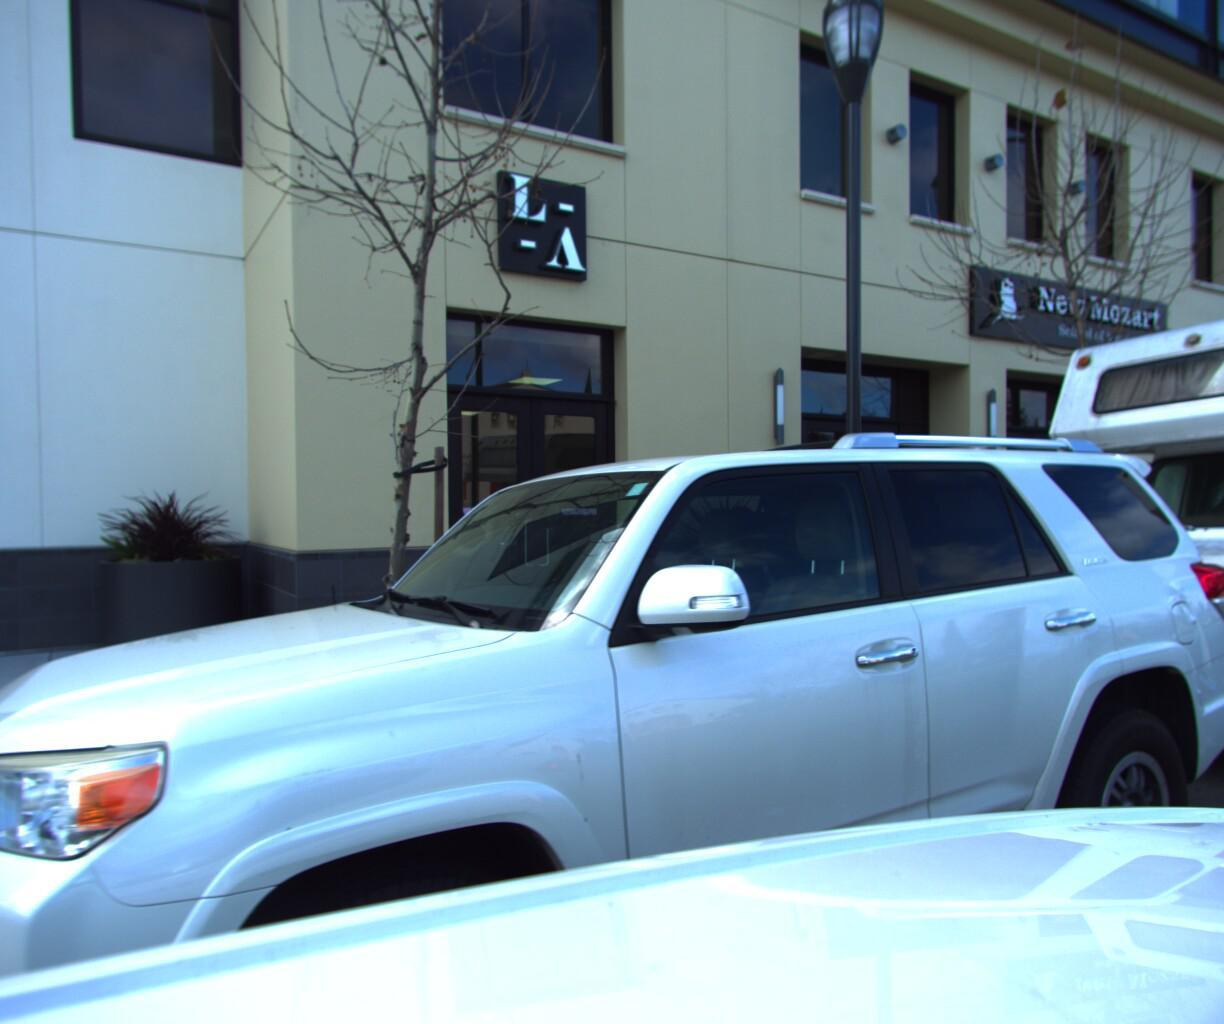car: (0, 305, 1224, 1024)
other_vehicle: (950, 157, 1224, 874)
